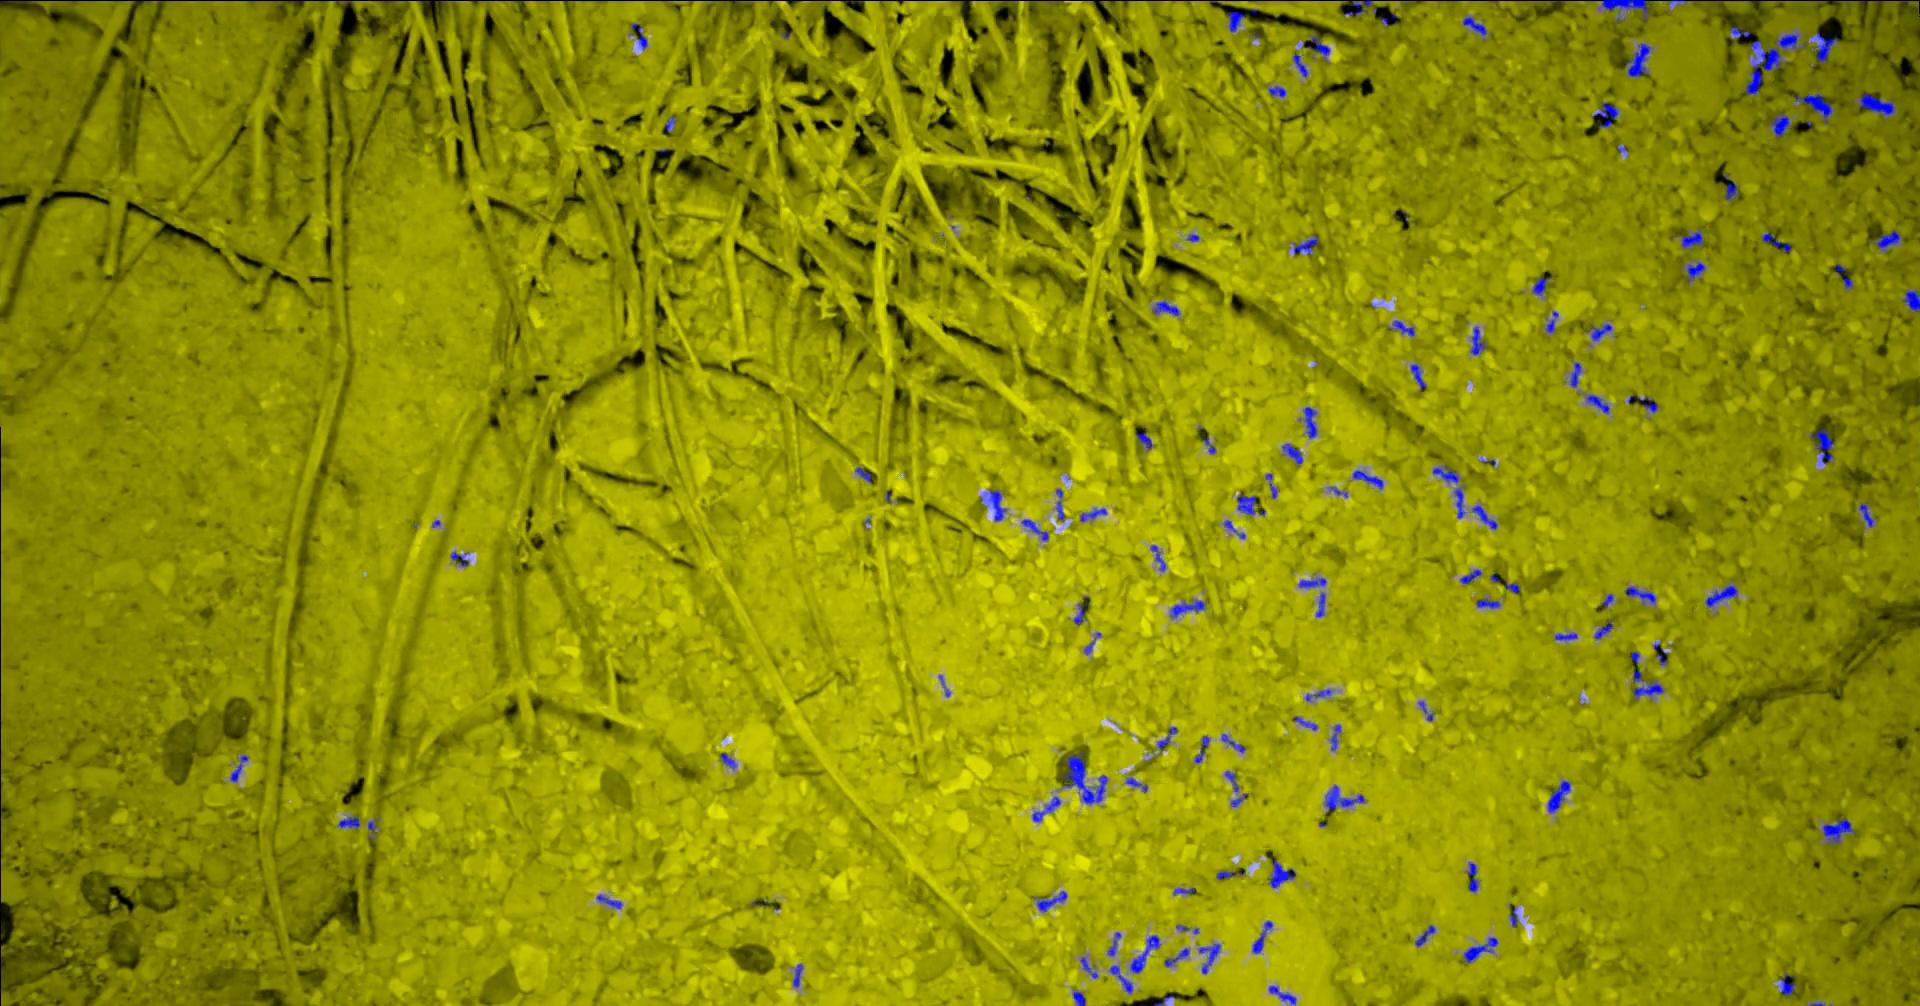ant: (1062, 751, 1107, 803), (1793, 93, 1832, 123), (1129, 935, 1161, 972), (1601, 0, 1653, 20), (1324, 784, 1364, 810), (1858, 91, 1895, 116), (1810, 428, 1834, 464), (1822, 818, 1855, 843), (1625, 42, 1650, 76), (1463, 937, 1497, 962), (1704, 584, 1737, 607), (1269, 859, 1295, 887), (1815, 32, 1837, 64), (1547, 780, 1570, 812), (1302, 34, 1330, 60), (1197, 942, 1220, 973), (1032, 796, 1060, 821), (1252, 920, 1272, 953), (1592, 102, 1618, 127), (1034, 890, 1065, 911), (1109, 965, 1131, 993), (1170, 600, 1205, 617), (1470, 506, 1497, 528), (1236, 494, 1265, 514), (1867, 230, 1900, 248), (1352, 470, 1383, 489), (1624, 586, 1655, 605), (1020, 520, 1048, 540), (1627, 394, 1658, 412), (1761, 232, 1790, 251), (1269, 984, 1295, 1005), (1299, 406, 1316, 438), (1632, 682, 1663, 699), (1769, 113, 1790, 137), (1291, 235, 1318, 254), (229, 754, 248, 781), (988, 489, 1004, 520), (629, 23, 648, 48), (1415, 923, 1435, 946), (1470, 326, 1487, 354), (1462, 17, 1486, 36), (1834, 264, 1853, 288), (1585, 394, 1609, 413), (1164, 948, 1189, 967), (1388, 320, 1415, 337), (1157, 727, 1177, 748), (1680, 229, 1703, 248), (1222, 733, 1244, 752), (1343, 0, 1371, 15), (1150, 300, 1178, 315), (1281, 443, 1302, 464), (1223, 520, 1244, 539), (1589, 323, 1611, 340), (1410, 363, 1425, 390), (1194, 735, 1209, 762), (1150, 544, 1164, 572), (1225, 10, 1244, 30), (1592, 619, 1611, 639), (1686, 262, 1704, 283), (1079, 956, 1097, 978), (1531, 276, 1550, 295), (1902, 290, 1919, 311), (1779, 973, 1796, 995), (1432, 467, 1458, 481), (1263, 473, 1277, 498), (596, 894, 621, 908), (1291, 53, 1307, 76), (1135, 426, 1150, 448), (1454, 486, 1465, 517), (1724, 173, 1737, 199), (1079, 508, 1106, 521), (1858, 503, 1872, 527), (1467, 862, 1478, 890), (1293, 716, 1317, 729), (1107, 931, 1120, 955), (1459, 569, 1481, 583), (1224, 770, 1238, 791), (1125, 777, 1147, 791), (719, 752, 737, 768), (1570, 362, 1581, 387), (1305, 688, 1331, 700), (1298, 577, 1326, 587), (1055, 488, 1064, 520), (1476, 597, 1500, 608), (1653, 643, 1666, 664), (450, 551, 467, 567), (337, 815, 359, 827), (1215, 870, 1244, 879), (1545, 311, 1558, 332), (1330, 724, 1340, 749), (855, 466, 871, 481), (792, 963, 803, 987), (1730, 25, 1749, 38), (1073, 603, 1084, 624), (1316, 591, 1324, 616), (1501, 582, 1519, 593), (1269, 85, 1285, 97), (1072, 991, 1084, 1005), (1554, 633, 1577, 640)
